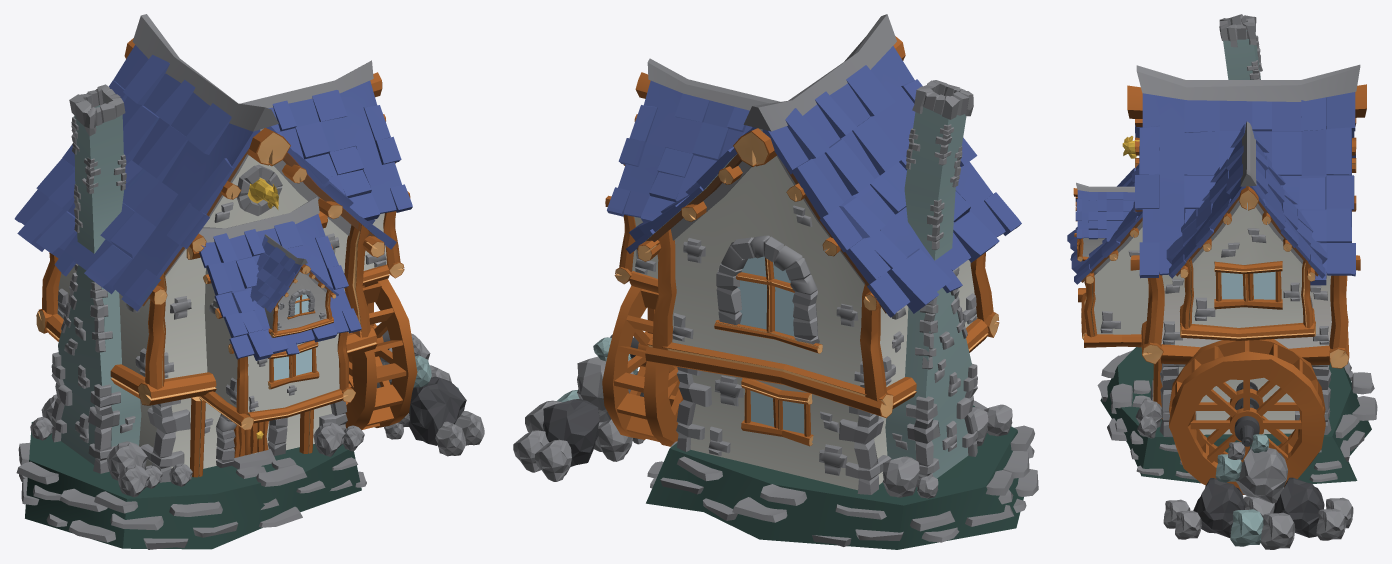
Rendered from casa tiefling.fbx.
3 renders of one model, left to right at view 1: azimuth 30°, elevation 25°; view 2: azimuth 150°, elevation 25°; view 3: azimuth 270°, elevation 25°, orthographic. The views are drawn at different scales.
Parts seen in each view (by area): view 1: casa, terrazza, rocce; view 2: casa, terrazza, rocce; view 3: casa, rocce, terrazza.
Boxes of the visible parts, x1,y1,x2,y2 form: casa: [14, 14, 417, 497]; terrazza: [16, 422, 366, 549]; rocce: [377, 333, 484, 456]; casa: [602, 14, 1021, 498]; terrazza: [646, 400, 1038, 549]; rocce: [513, 337, 644, 481]; casa: [1067, 14, 1366, 494]; rocce: [1163, 434, 1353, 549]; terrazza: [1097, 347, 1377, 483].
Bounding box in the file's own units: 12.42 × 11.07 × 8.28.
